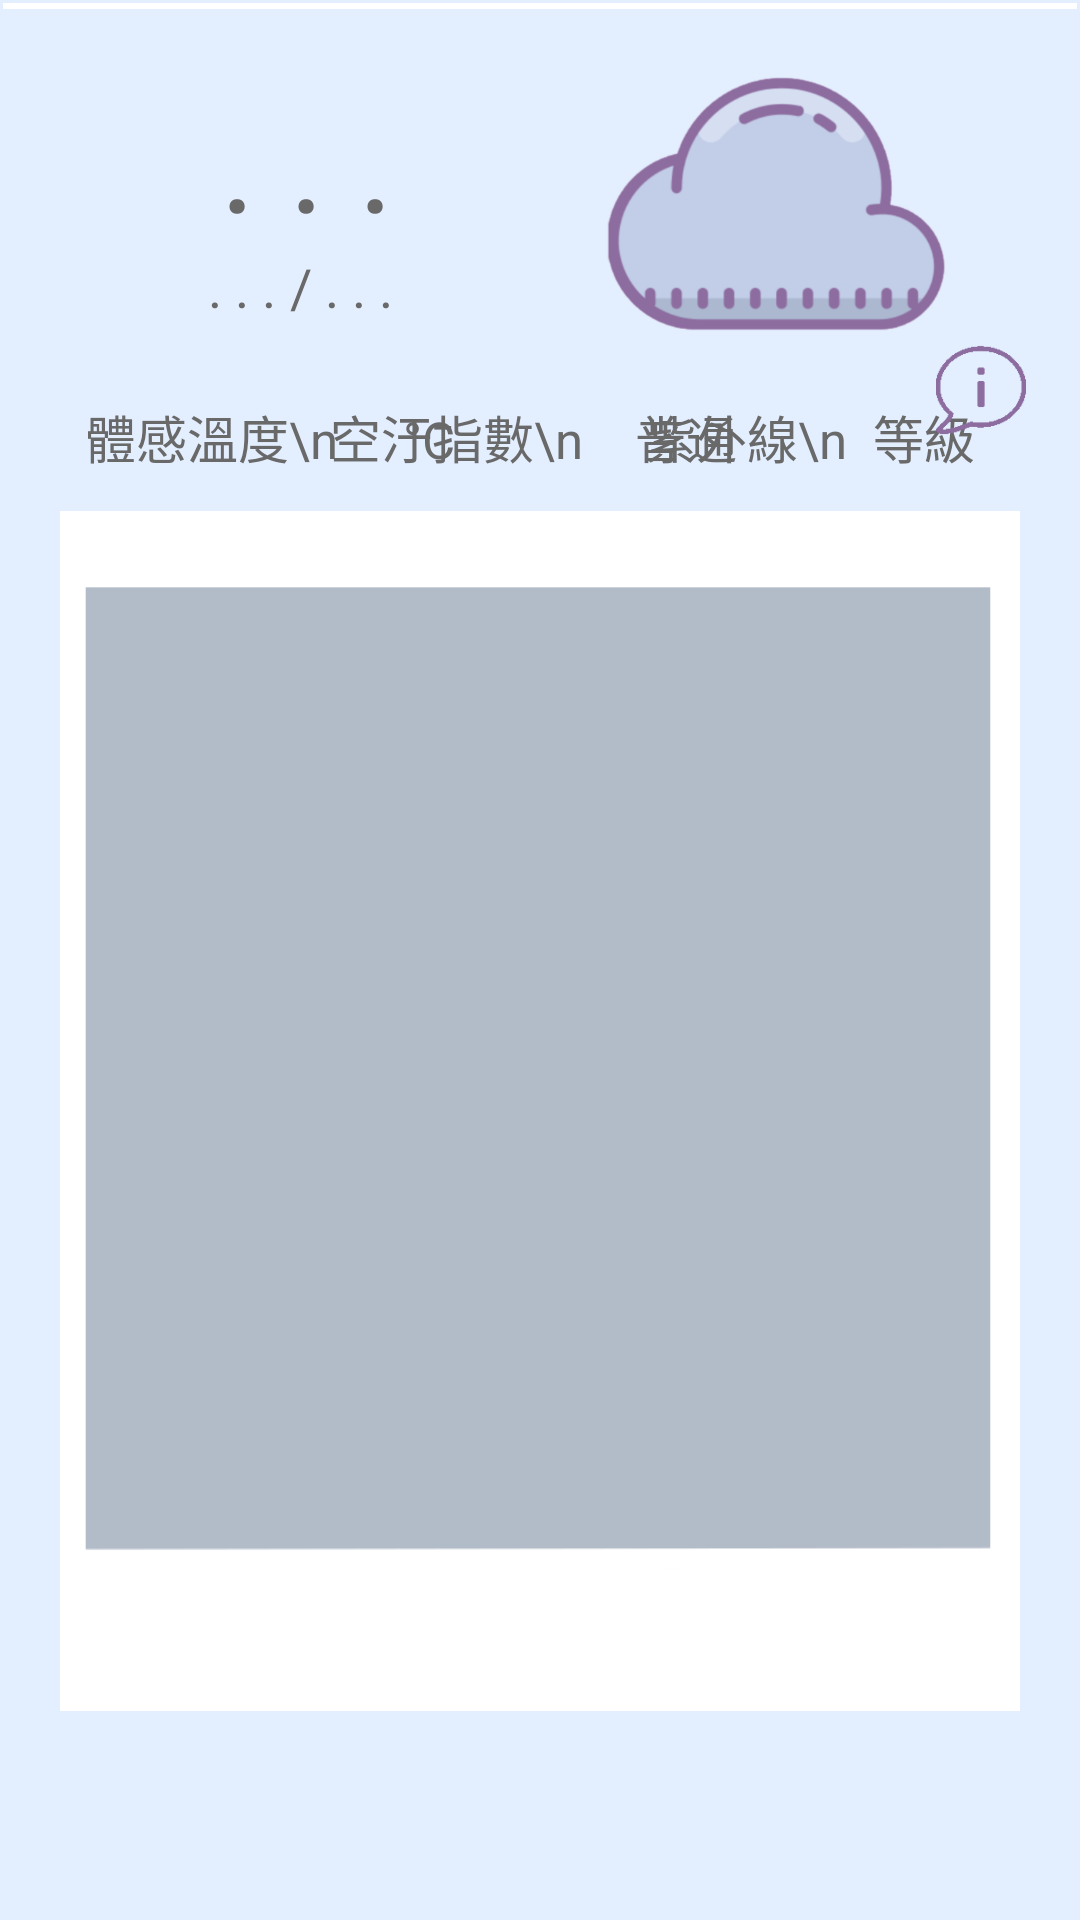

Where to tap for icons on this 1080x1920 app screen, as (x,y):
cloud: (776,204)
